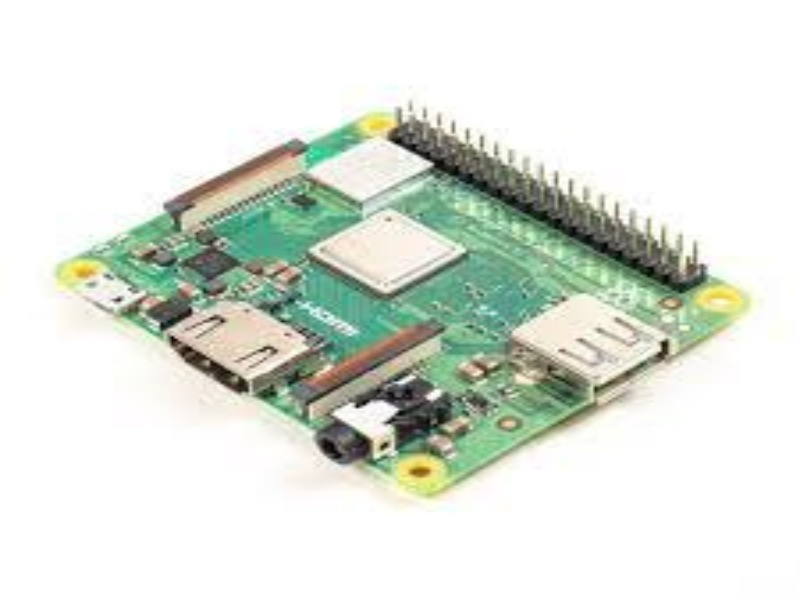raspberrypi: (71, 82, 755, 484)
